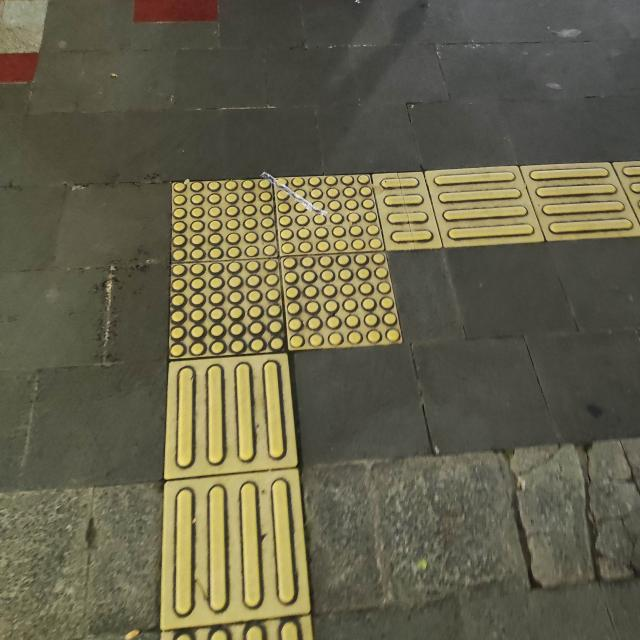kanan: (120, 135, 580, 423)
